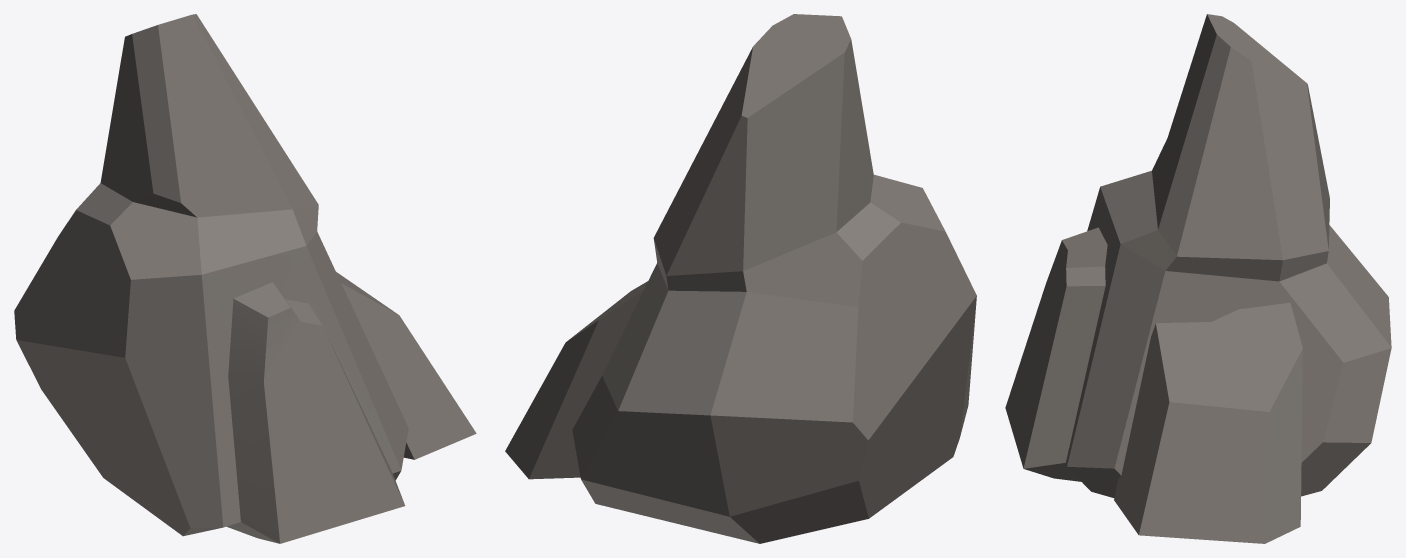
Rendered from mdl_islandRocks03.fbx.
The picture shows the model from 3 angles, left to right: view 1: azimuth 30°, elevation 25°; view 2: azimuth 150°, elevation 25°; view 3: azimuth 270°, elevation 25°; orthographic projection. The views are drawn at different scales.
Visible parts, largest first — view 1: mdl_islandRocks05; view 2: mdl_islandRocks05; view 3: mdl_islandRocks05.
Part boxes in pixels (<box>): mdl_islandRocks05: <box>14,14,476,543</box>; mdl_islandRocks05: <box>505,14,976,543</box>; mdl_islandRocks05: <box>1005,14,1391,543</box>.
Size of the model in its own units: 132 by 157 by 135.
Materials: 1 (1 with a texture image).
